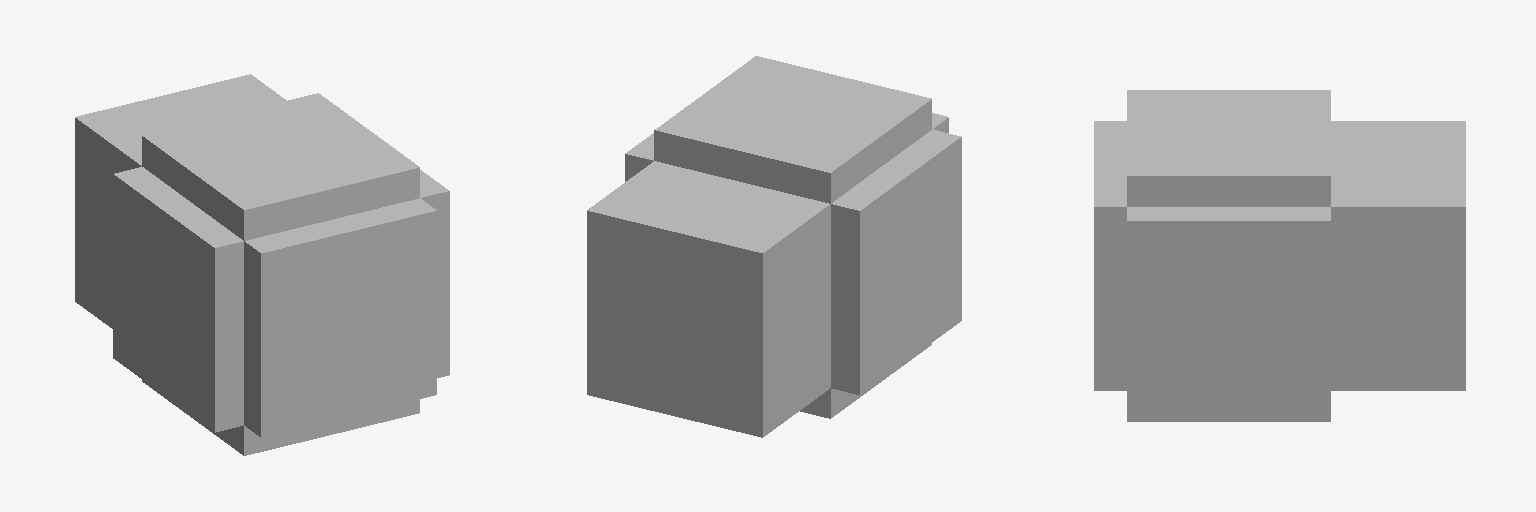
The model's file is arm_hand.obj.
The picture shows the model from 3 angles: view 1: azimuth 30°, elevation 25°; view 2: azimuth 150°, elevation 25°; view 3: azimuth 270°, elevation 25°; orthographic projection.
Visible parts, largest first — view 1: hand; view 2: hand; view 3: hand.
Boxes of the visible parts, x1,y1,x2,y2 form: hand: [75, 74, 449, 455]; hand: [587, 56, 961, 437]; hand: [1094, 90, 1465, 421].
Size of the model in its own units: 0.5 by 0.5 by 0.6875.